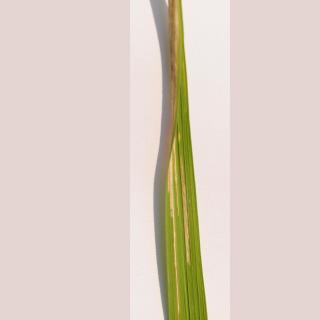Hawar-Daun: (150, 4, 202, 320)
